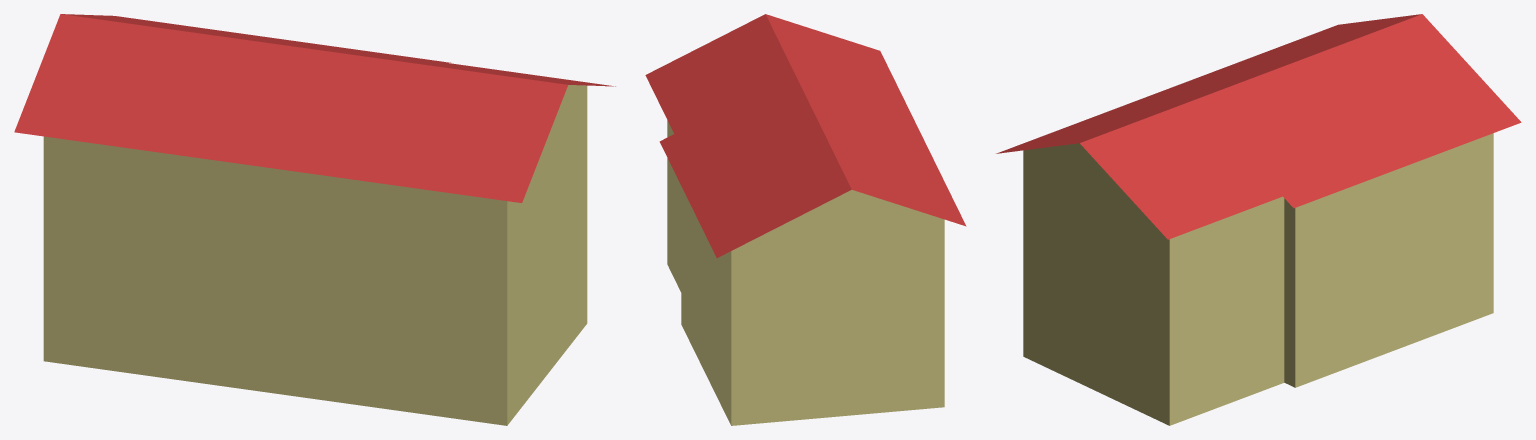
The picture shows the model from 3 angles, left to right: view 1: azimuth 30°, elevation 25°; view 2: azimuth 150°, elevation 25°; view 3: azimuth 270°, elevation 25°; orthographic projection. The views are drawn at different scales.
Size of the model in its own units: 18.74 by 19.75 by 10.46.
